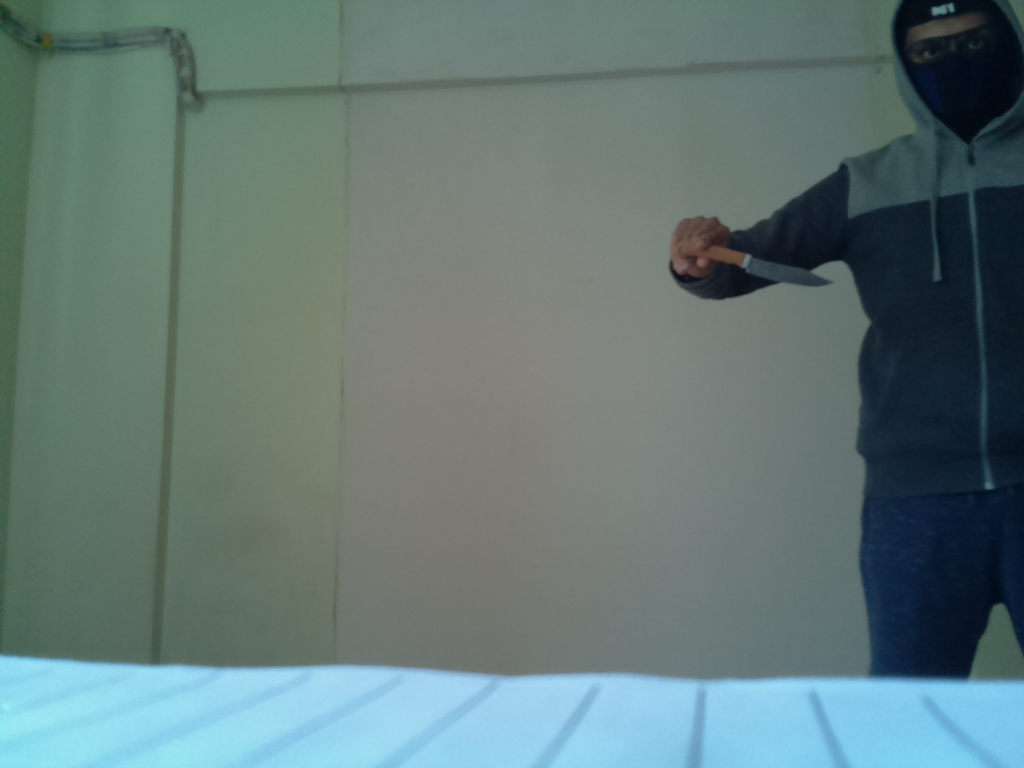knife: (688, 238, 839, 299)
